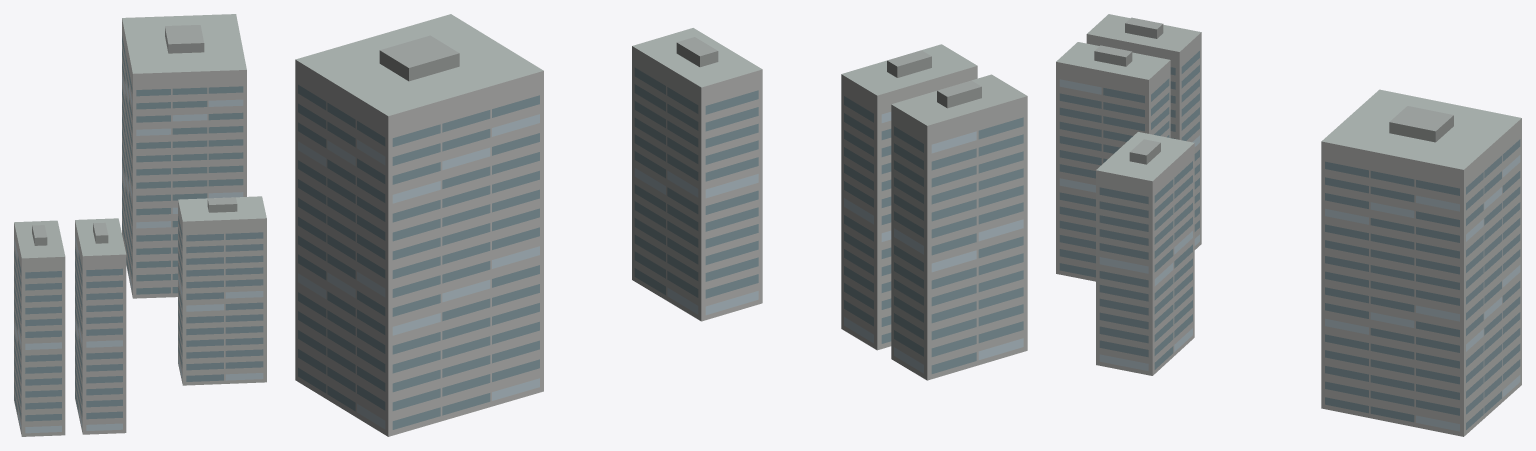
File: apt-a10023914.glb
The picture shows the model from 3 angles, left to right: view 1: azimuth 30°, elevation 25°; view 2: azimuth 150°, elevation 25°; view 3: azimuth 270°, elevation 25°; orthographic projection. The views are drawn at different scales.
Visible parts, largest first — view 1: apt-a10023914; view 2: apt-a10023914; view 3: apt-a10023914.
Part boxes in pixels (<box>): apt-a10023914: <box>14,14,266,436</box>; apt-a10023914: <box>295,14,1027,436</box>; apt-a10023914: <box>1056,14,1521,436</box>.
Bounding box in the file's own units: 97.56 × 60 × 91.09.
